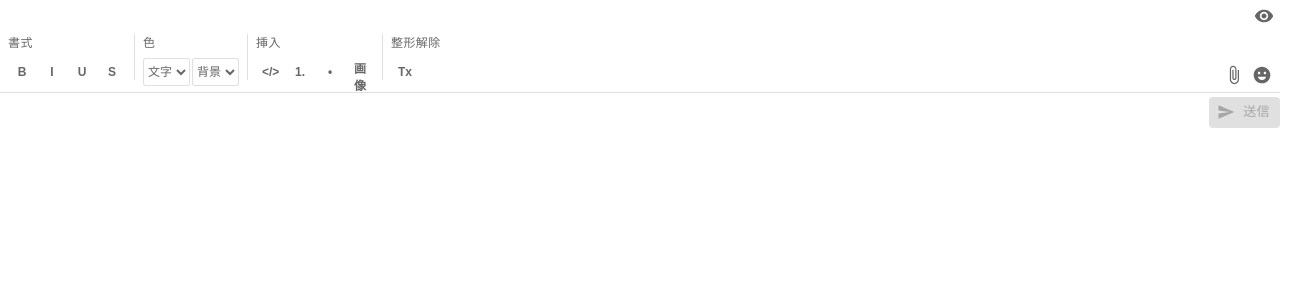
RichEditor › 絵文字ピッカー › ピッカー外をクリックするとピッカーが閉じる
Click the button named "絵文字を挿入" at (1262, 75), box 1250,63 -> 1274,87
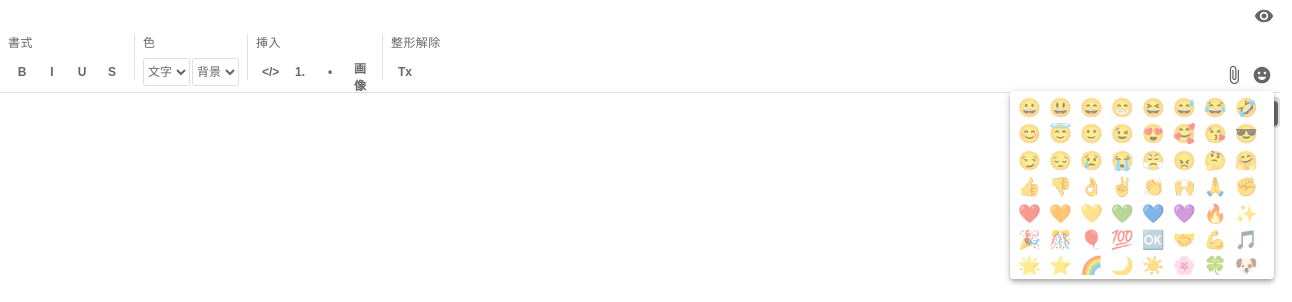
Expected: the button "😀" is shown, 1014,95 -> 1045,121
# ClickAwayListener のトリガー: ピッカー外（document.body）をクリック
Click the element that starts with "整形解除" at (640, 64), box 0,0 -> 1280,128
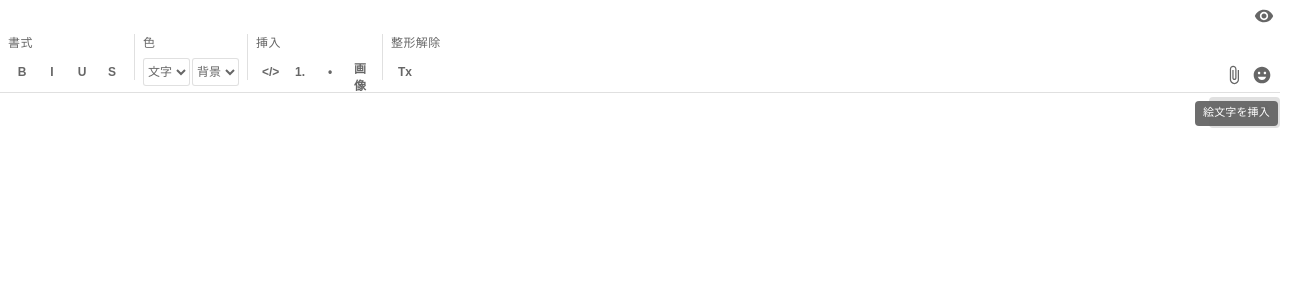
Expected: the button "😀" is gone
